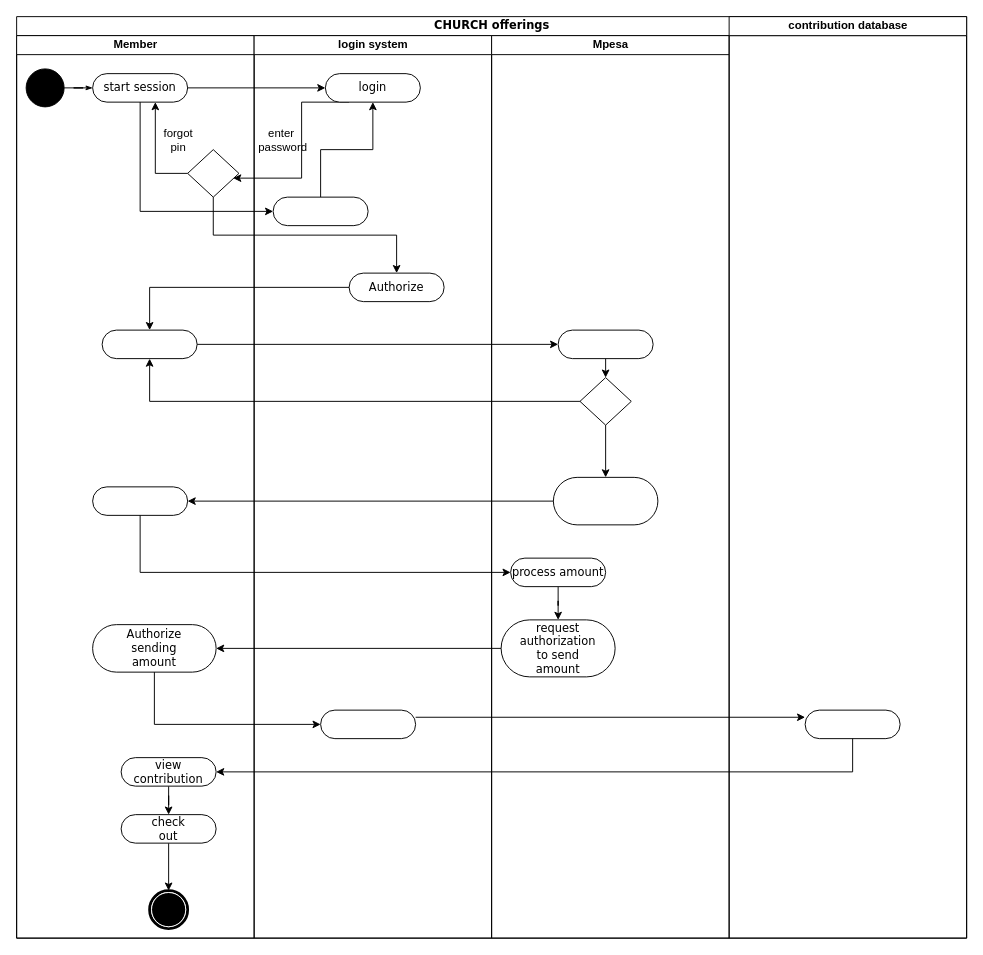
The diagram is 983 pixels wide and 955 high, and some of its shapes have lost their labels. Each missing label, with the centre of its shape:
Authorize transaction: point (605, 344)
Enter amount: point (140, 500)
make contribution: point (149, 344)
receive amount: point (368, 724)
request amount to transfer: point (605, 500)
sign up: point (320, 211)
update record: point (852, 724)
